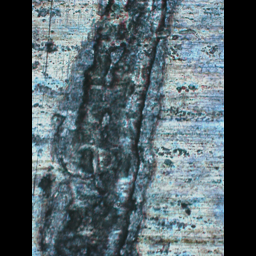d: (47, 0, 180, 254)
